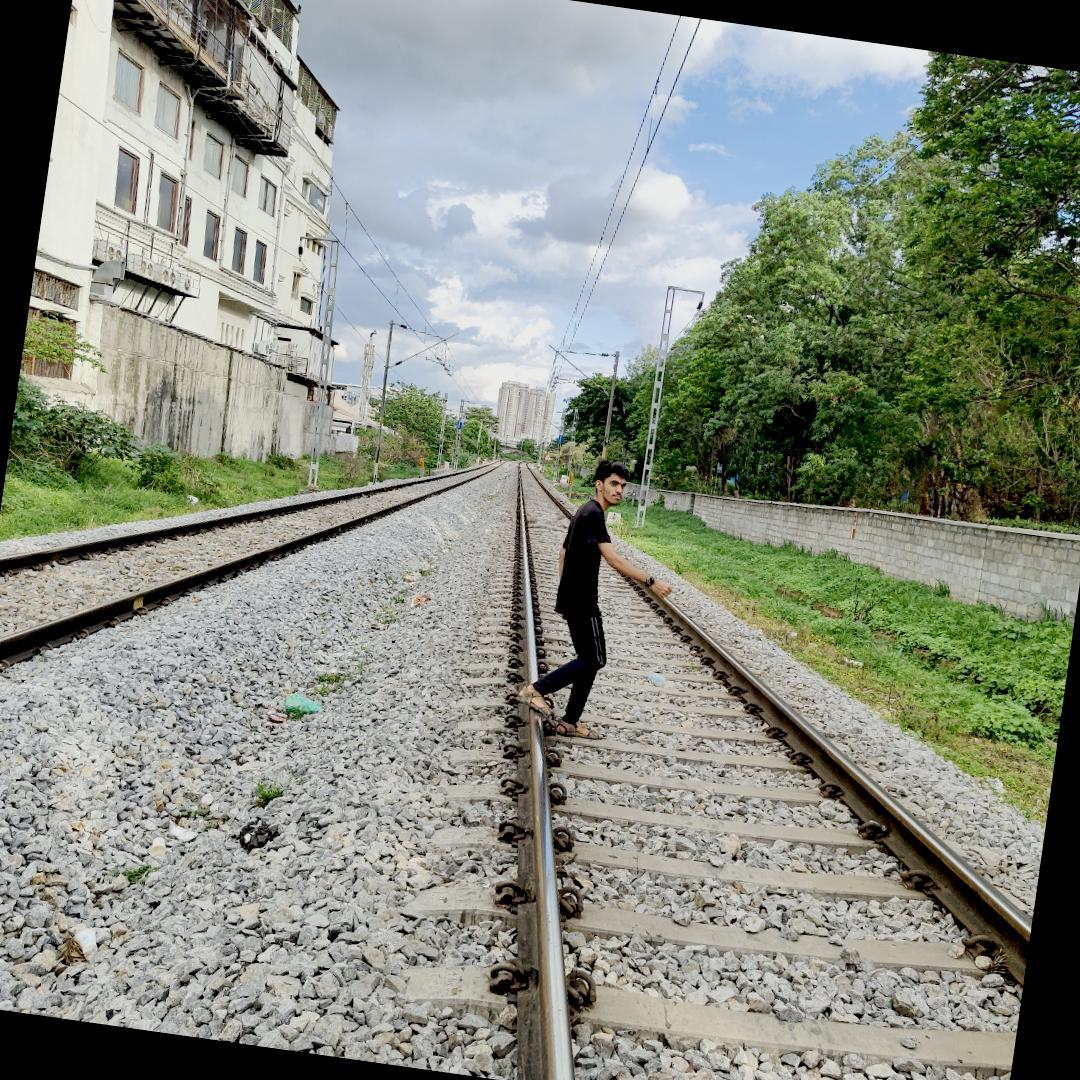standing: (510, 456, 653, 747)
